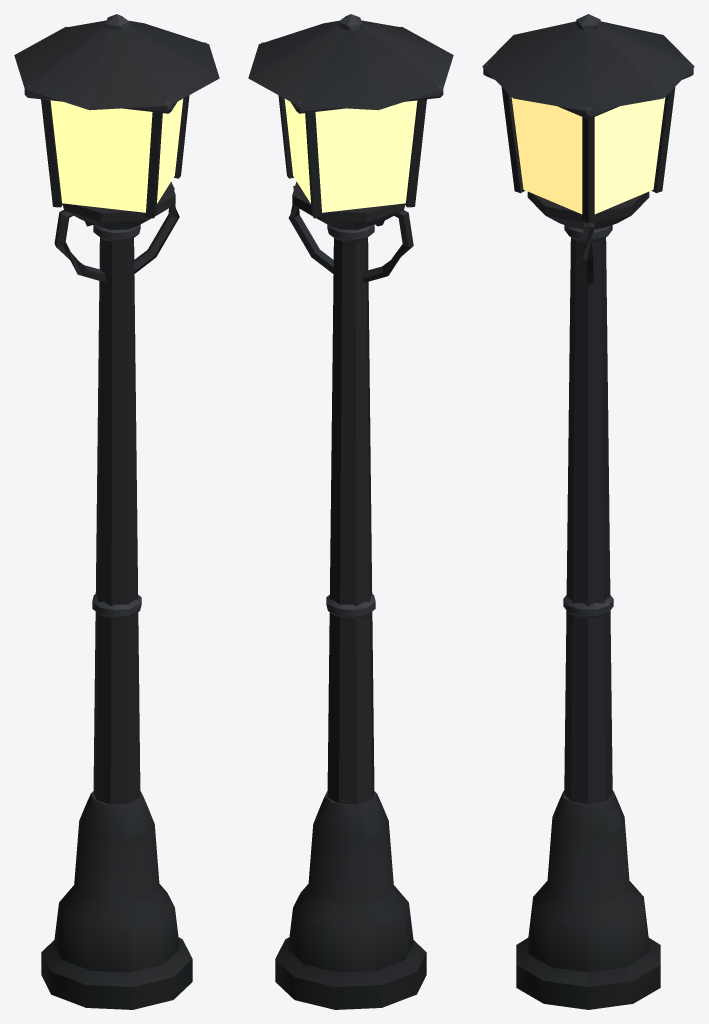
Rendered from lamp-post.glb.
3 renders of one model, left to right at view 1: azimuth 30°, elevation 25°; view 2: azimuth 150°, elevation 25°; view 3: azimuth 270°, elevation 25°, orthographic.
Visible parts, largest first — view 1: lamp-post; view 2: lamp-post; view 3: lamp-post.
Part boxes in pixels (box(x1,y1,x2,y2)): lamp-post: box(14, 14, 219, 1009); lamp-post: box(248, 14, 453, 1009); lamp-post: box(482, 14, 694, 1009).
Bounding box in the file's own units: 0.4199 × 2.1 × 0.4199.
